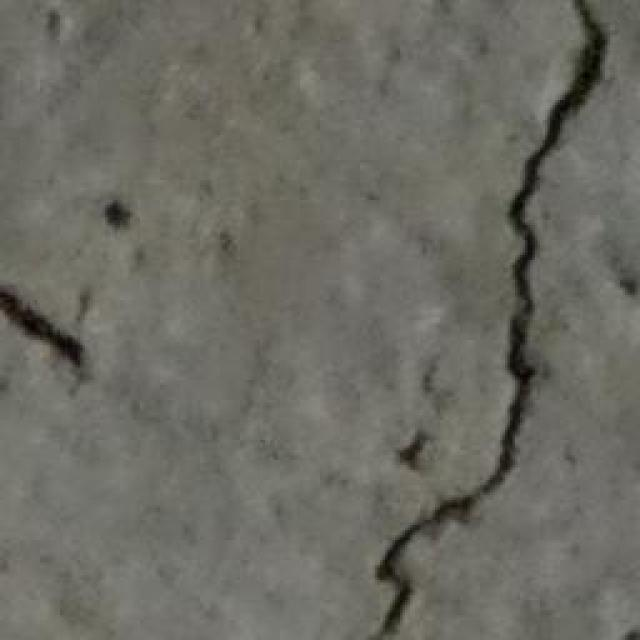Diagonal: (7, 238, 114, 384)
Longitudinal: (375, 0, 618, 640)
